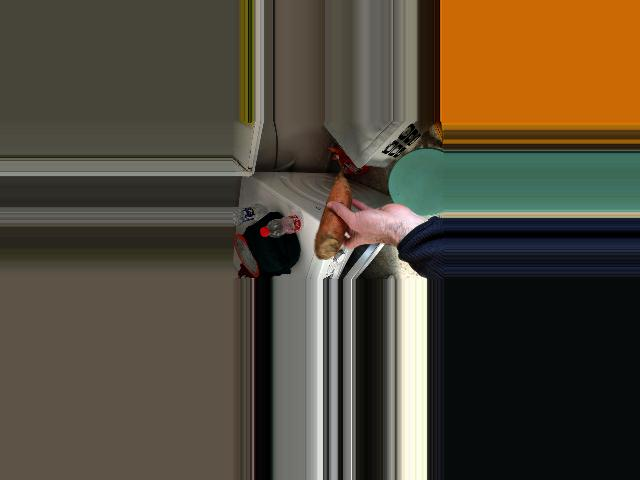sweet_potato: (320, 168, 346, 259)
